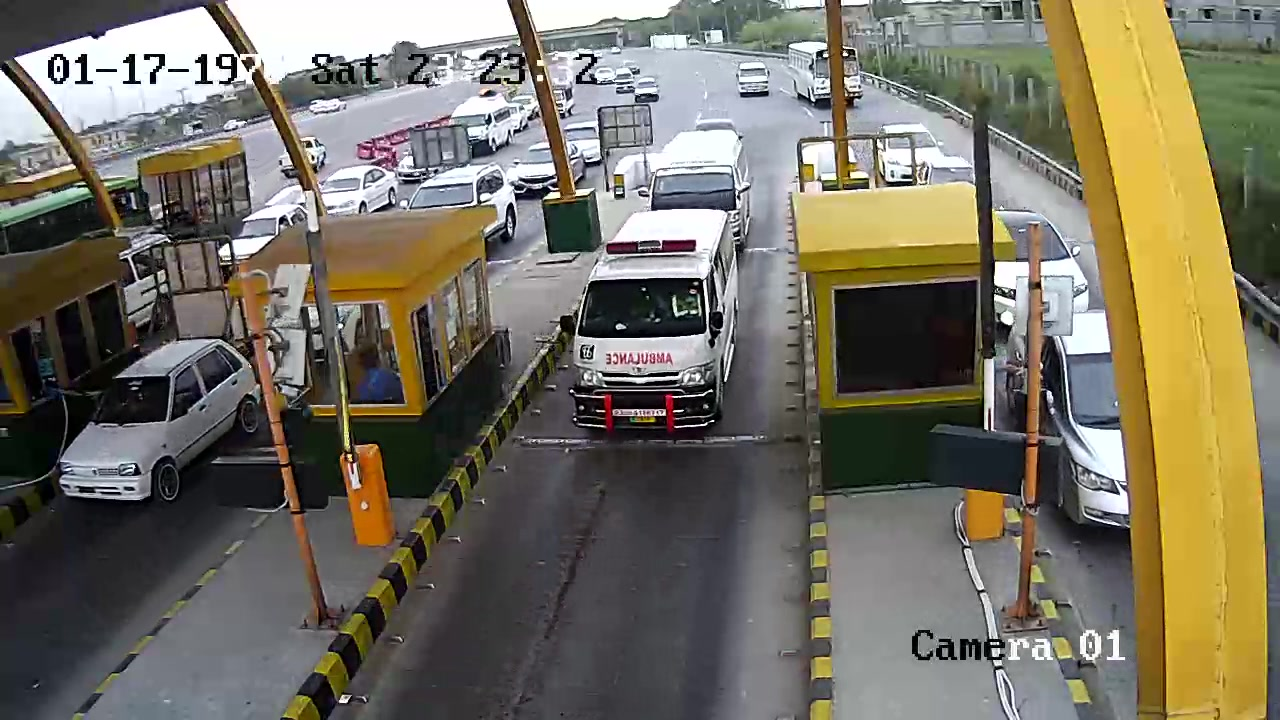F3: (568, 213, 746, 446)
